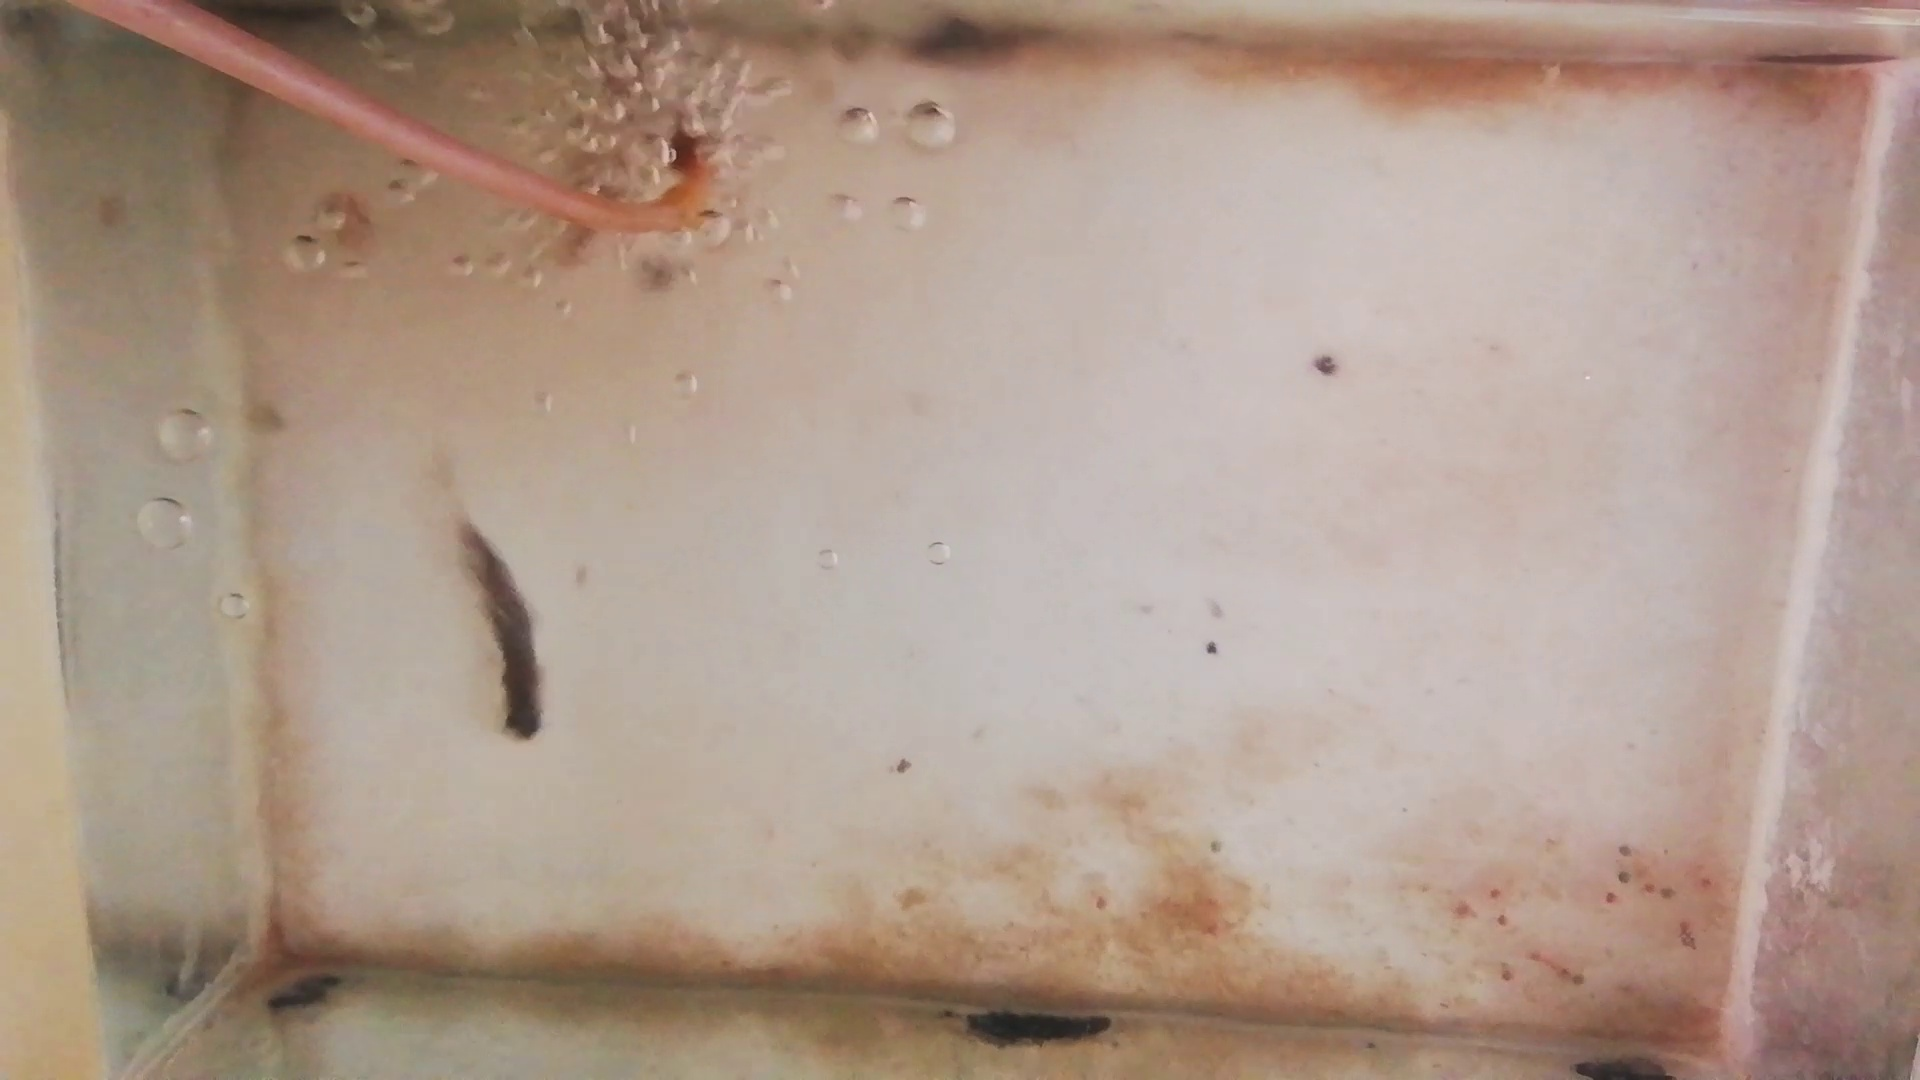fish: (458, 524, 541, 738), (574, 45, 626, 260)
